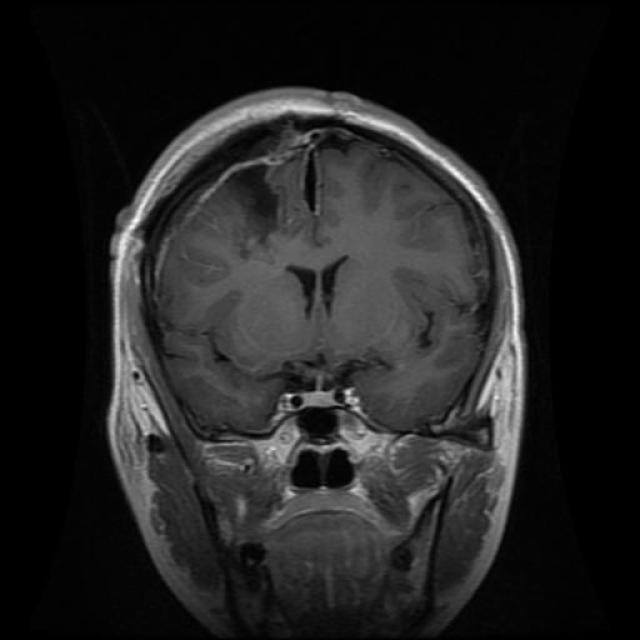glioma: (271, 248, 365, 332)
